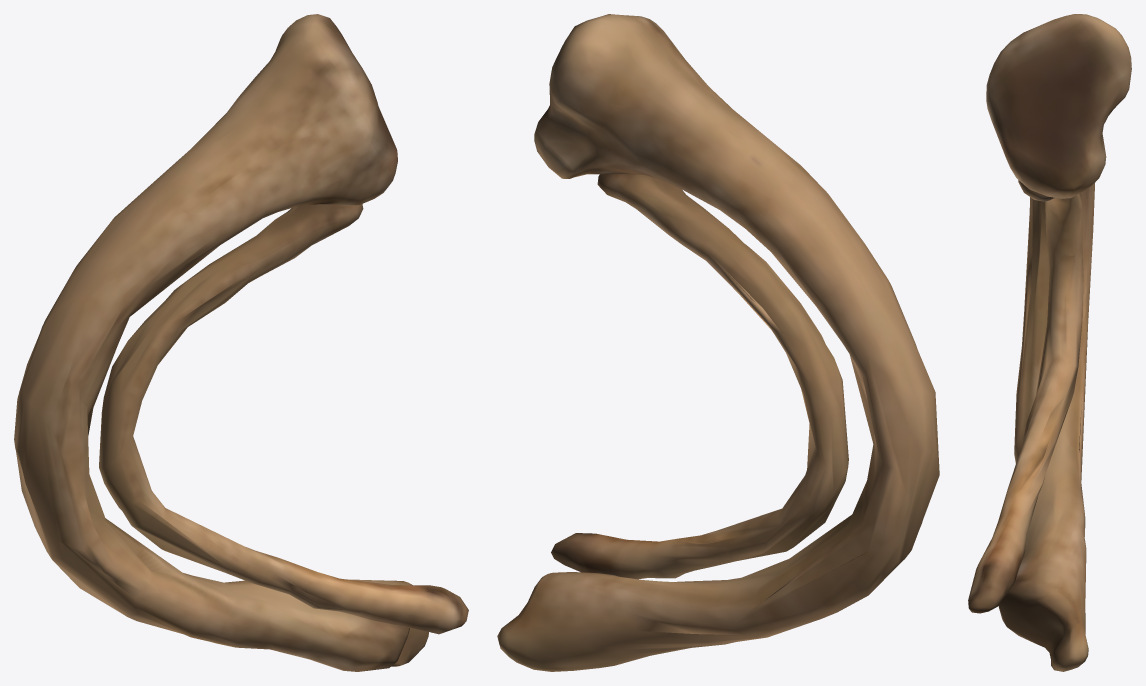
File: TibiaFibula.glb
3 renders of one model, left to right at view 1: azimuth 30°, elevation 25°; view 2: azimuth 150°, elevation 25°; view 3: azimuth 270°, elevation 25°, orthographic. The views are drawn at different scales.
Visible parts, largest first — view 1: L_Lowerleg.002; view 2: L_Lowerleg.002; view 3: L_Lowerleg.002.
Boxes of the visible parts, x1=… form: L_Lowerleg.002: x1=14, y1=14, x2=468, y2=671; L_Lowerleg.002: x1=497, y1=14, x2=939, y2=671; L_Lowerleg.002: x1=968, y1=14, x2=1131, y2=671.
Bounding box in the file's own units: 0.1898 × 0.2857 × 0.0685.
1 material, 1 textured.
